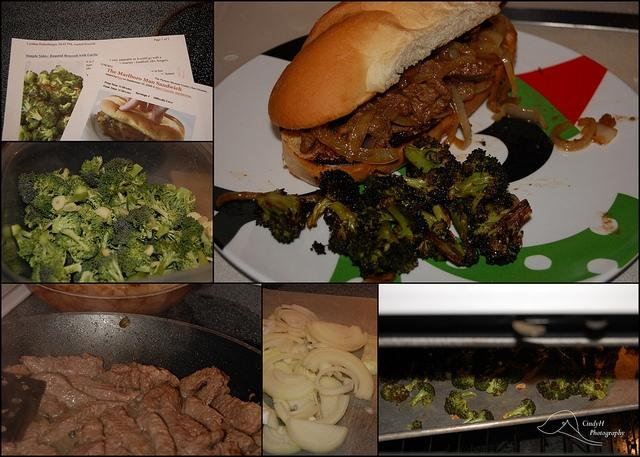broccoli: (216, 188, 307, 244), (345, 220, 418, 280), (467, 199, 532, 266), (446, 148, 510, 201), (324, 201, 382, 257), (307, 169, 360, 230), (413, 218, 463, 266), (402, 135, 457, 178), (152, 241, 197, 277), (117, 238, 152, 276), (59, 227, 99, 260), (29, 234, 67, 268), (157, 184, 198, 215), (11, 224, 41, 261), (386, 203, 413, 244), (17, 170, 49, 204), (86, 226, 123, 255), (77, 202, 107, 236), (400, 204, 430, 238), (39, 260, 83, 282), (360, 187, 396, 212), (536, 375, 571, 400), (125, 205, 152, 237), (97, 251, 124, 282), (151, 204, 183, 229), (78, 156, 102, 189), (408, 188, 436, 216), (98, 170, 124, 198), (112, 212, 142, 235), (577, 378, 606, 401), (410, 382, 436, 406), (451, 366, 476, 390), (36, 102, 60, 126), (444, 396, 469, 419), (506, 399, 536, 418), (31, 194, 54, 218), (474, 370, 498, 392), (492, 192, 514, 216), (486, 374, 509, 396), (461, 409, 494, 424), (390, 384, 410, 404), (49, 87, 70, 106), (68, 182, 92, 196), (178, 216, 199, 232), (474, 360, 492, 378), (118, 170, 134, 189), (58, 69, 78, 84), (26, 117, 40, 132), (137, 193, 151, 208), (594, 378, 608, 391), (406, 420, 422, 429), (28, 82, 40, 94)
onion: (300, 347, 374, 401), (310, 128, 400, 164), (285, 418, 349, 454), (306, 321, 368, 352), (346, 102, 376, 162), (264, 368, 316, 400), (549, 117, 597, 149), (449, 84, 472, 150), (262, 424, 302, 455), (314, 366, 358, 394), (311, 321, 360, 346), (262, 398, 320, 419), (494, 46, 517, 98), (314, 394, 349, 426), (318, 376, 344, 418), (263, 352, 306, 371), (360, 334, 378, 375), (318, 378, 354, 396), (262, 318, 304, 332), (320, 321, 352, 338), (272, 369, 308, 384), (288, 398, 316, 416), (263, 338, 294, 353), (292, 304, 319, 321), (262, 349, 286, 364), (280, 311, 308, 323), (301, 366, 315, 380), (294, 342, 306, 355), (304, 324, 312, 342), (292, 360, 302, 374), (476, 33, 488, 41), (332, 364, 338, 366)
